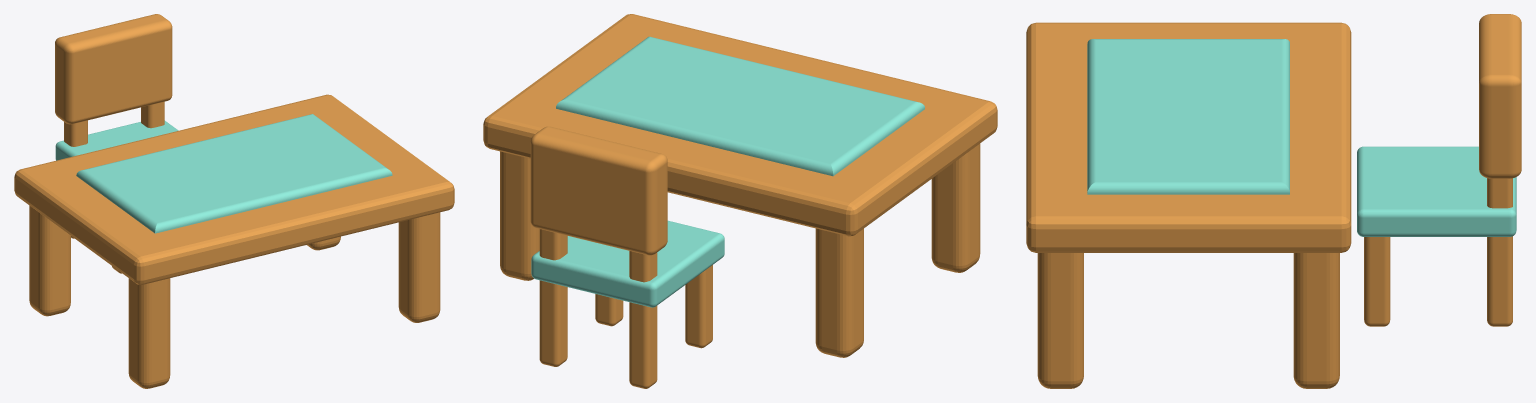
File: desk.glb
3 views of the same model, side by side, from view 1: azimuth 30°, elevation 25°; view 2: azimuth 150°, elevation 25°; view 3: azimuth 270°, elevation 25° (orthographic). The views are drawn at different scales.
Visible parts, largest first — view 1: Cube; view 2: Cube; view 3: Cube.
Boxes of the visible parts, bbox=[...] form: Cube: bbox=[14, 14, 454, 388]; Cube: bbox=[483, 14, 997, 388]; Cube: bbox=[1026, 14, 1521, 388].
Bounding box in the file's own units: 2.93 × 1.72 × 3.05.
